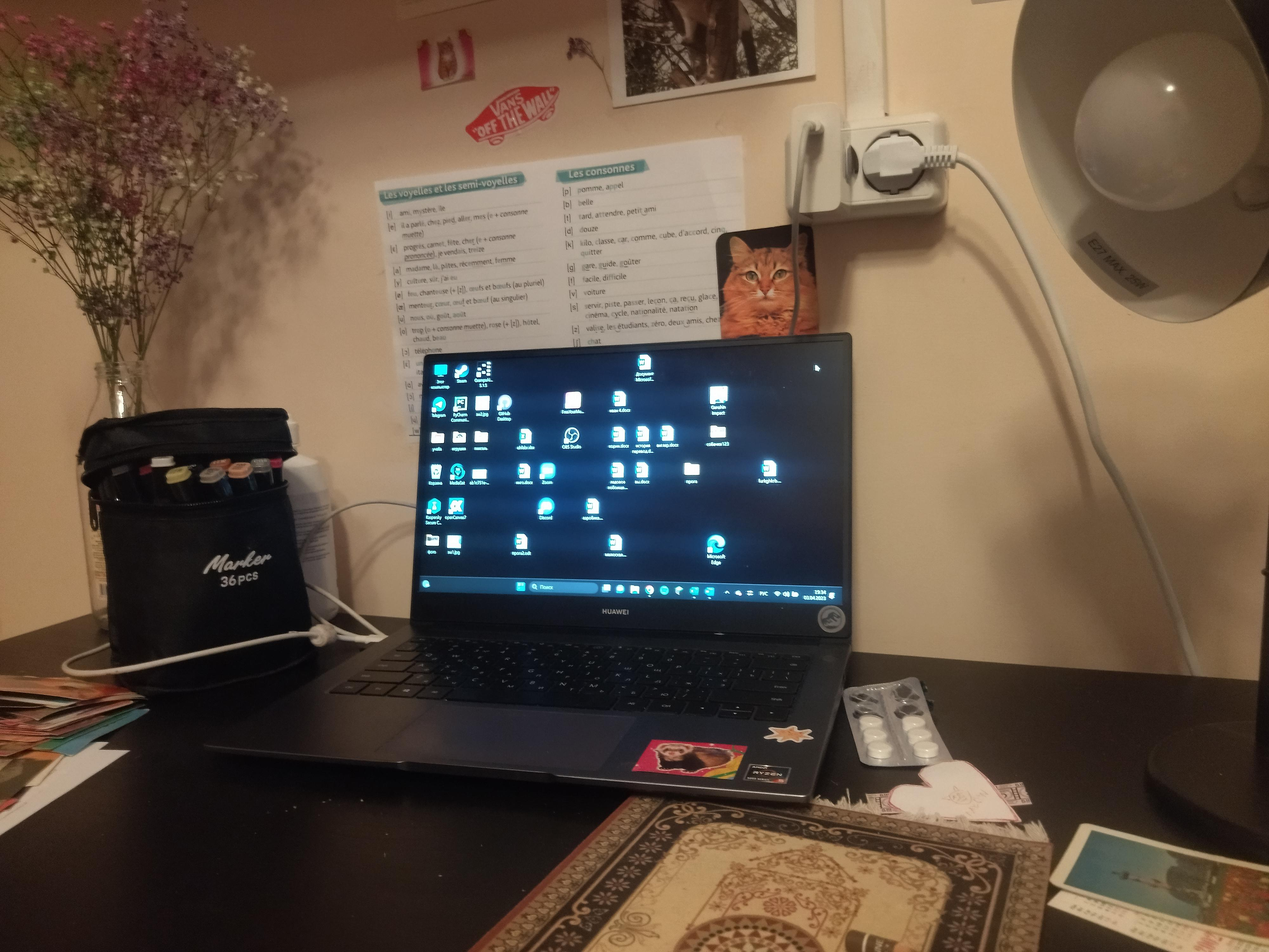monitor: (401, 328, 860, 651)
